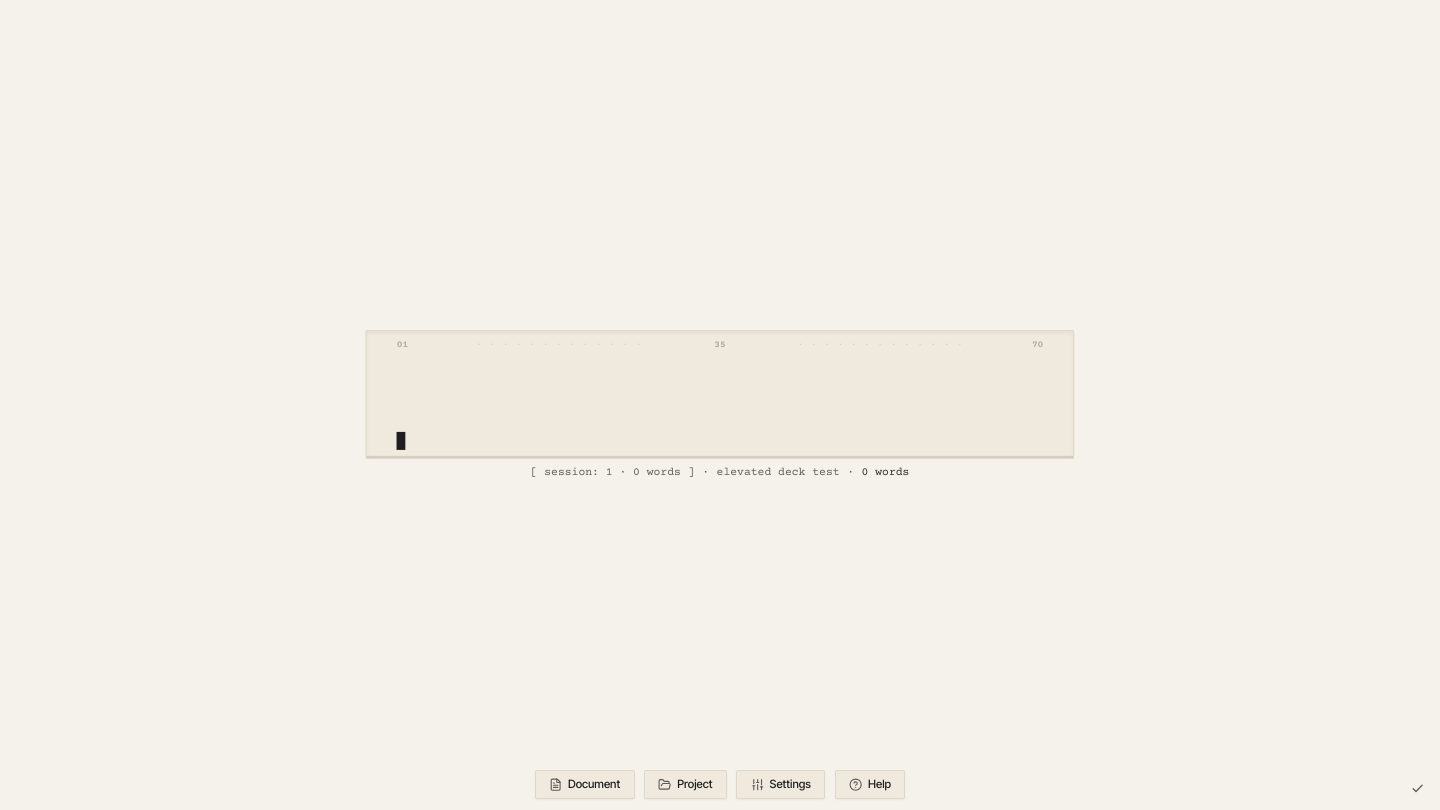
Test: Strategy A - Persistent Elevated Deck & Modal Linking › verifies modal cards have safe landscape bottom clearance preventing deck collision on S text size
Click the button with aria-label "Document" at (585, 784), box [535, 770, 634, 799]
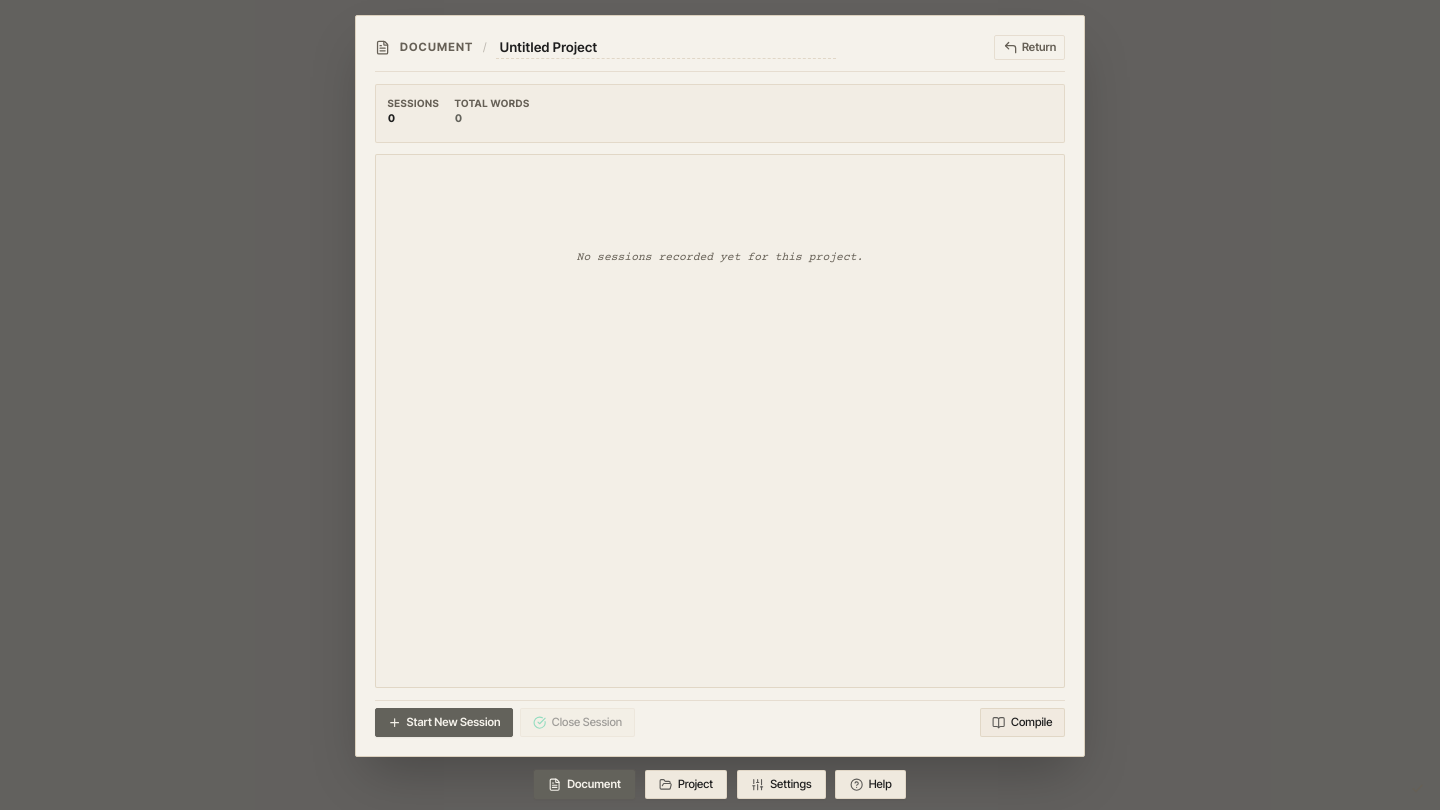
Check: the dialog is shown
